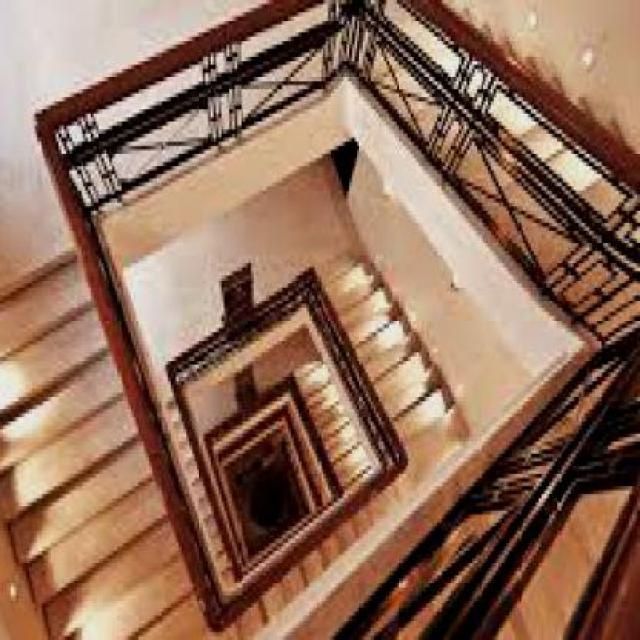stair: (0, 93, 236, 636), (294, 237, 469, 455)
